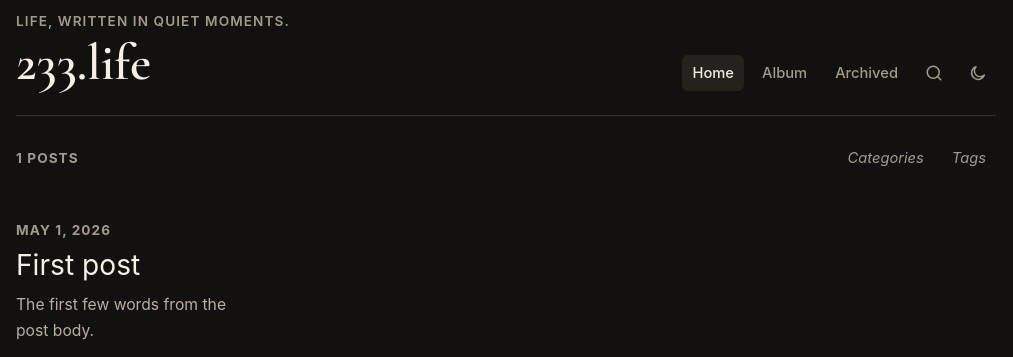
Test case: home pagination › preloads categories on home load before the category switcher is opened
Expected: the heading "First post" is shown, [16,248,140,282]
Step 1. Click the button "Categories" → (886,158), box [838,140,934,176]
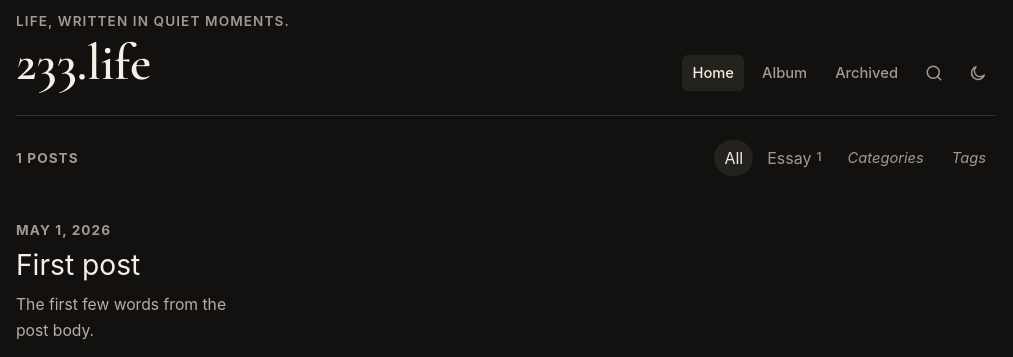
Now the button "Essay 1" is shown, box [757,140,832,176]
